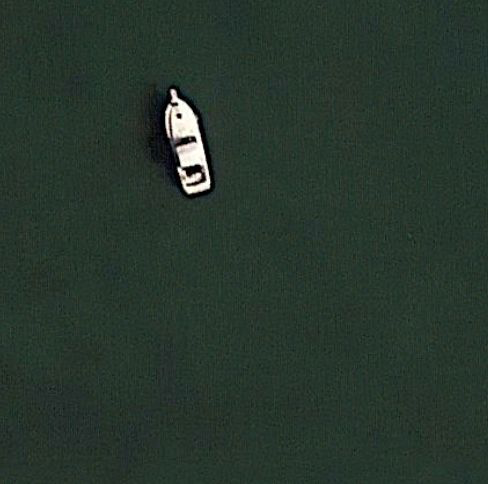boat: (158, 83, 213, 197)
